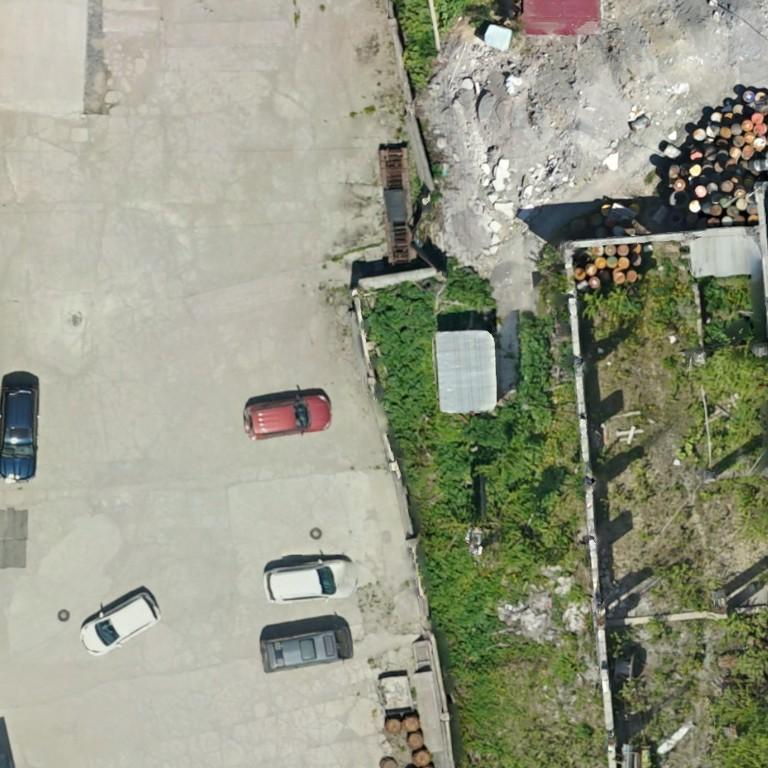hogweed: (365, 282, 436, 458), (463, 314, 554, 450), (425, 536, 502, 652), (432, 442, 476, 522), (444, 270, 494, 308)
